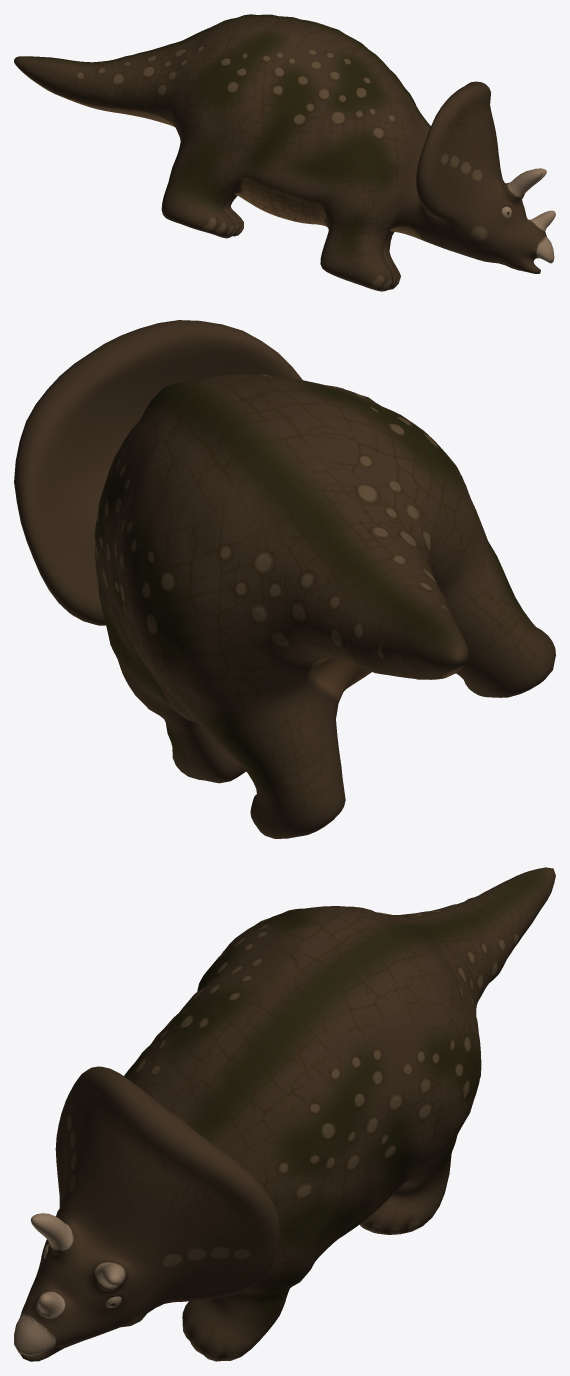
3 renders of one model, top to bottom at view 1: azimuth 30°, elevation 25°; view 2: azimuth 150°, elevation 25°; view 3: azimuth 270°, elevation 25°, orthographic. The views are drawn at different scales.
Visible parts, largest first — view 1: Trice; view 2: Trice; view 3: Trice.
Boxes of the visible parts, x1,y1,x2,y2 form: Trice: (14, 14, 555, 291); Trice: (14, 320, 555, 838); Trice: (14, 867, 555, 1361).
Size of the model in its own units: 1.15 by 0.7365 by 0.9616.
Materials: 1 (1 with a texture image).
